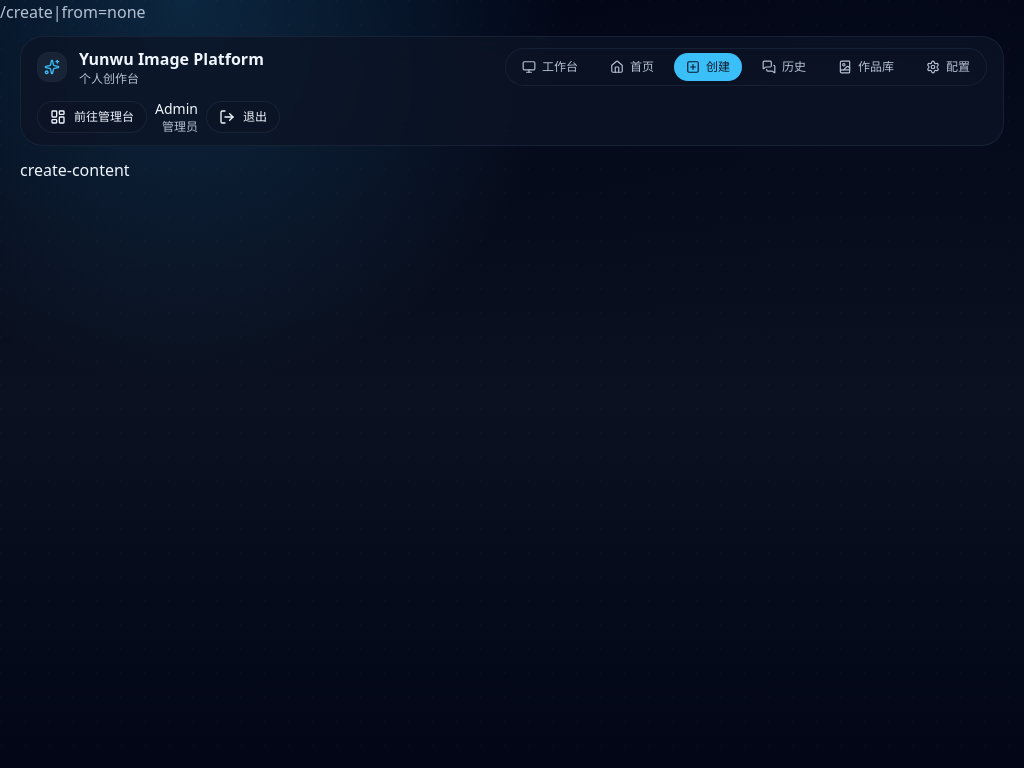
Test case: app shell › lets an admin switch from user shell to admin route
Click the button "前往管理台".
click(92, 117)  # box [37,101,147,133]
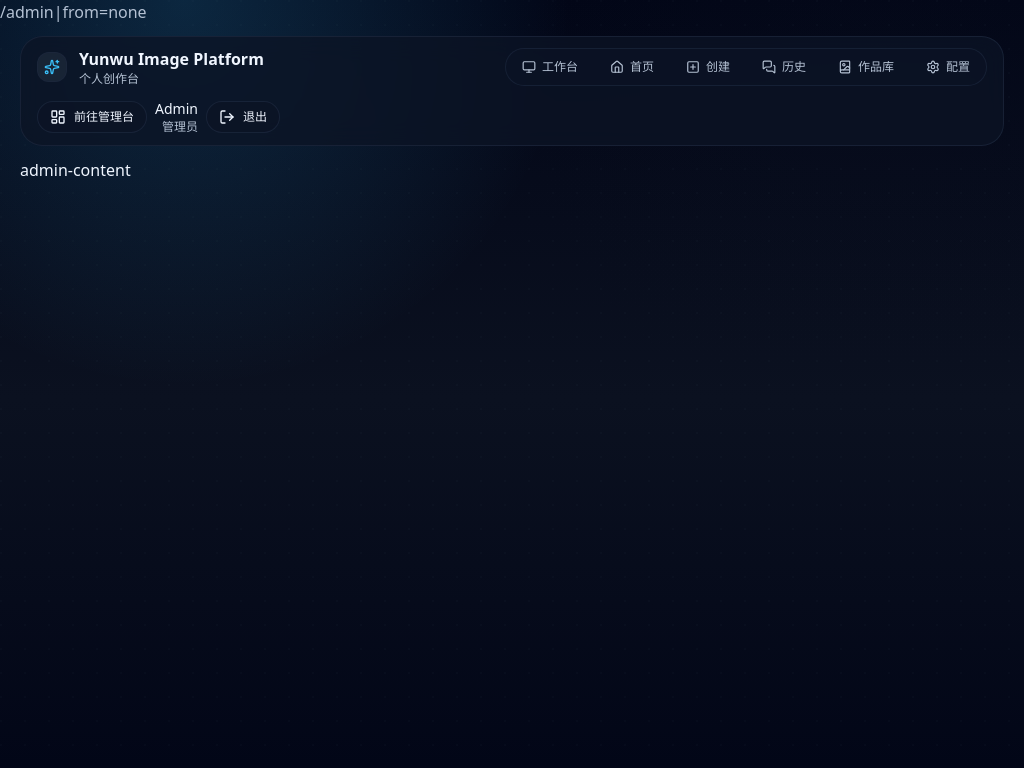
Expected: the text with test id "location" reads "/admin|from=none", [0,1,147,23]
